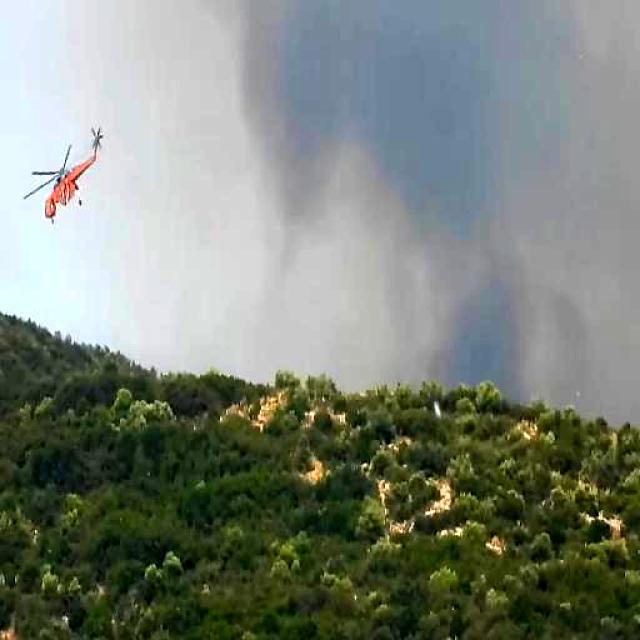drone: (21, 100, 114, 240)
